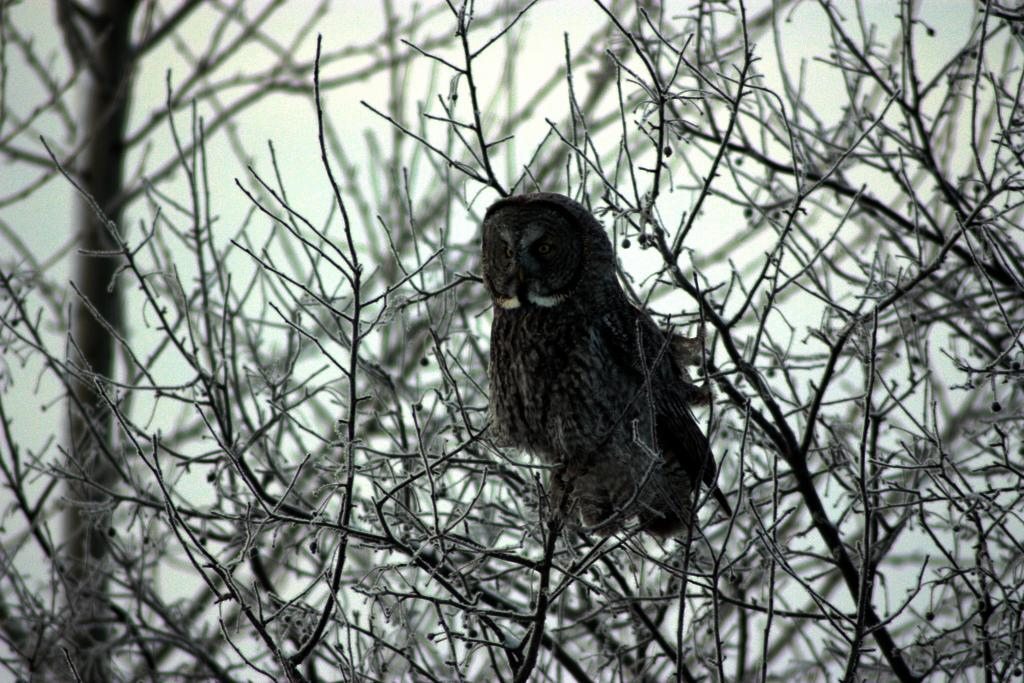Owl: (478, 190, 730, 542)
